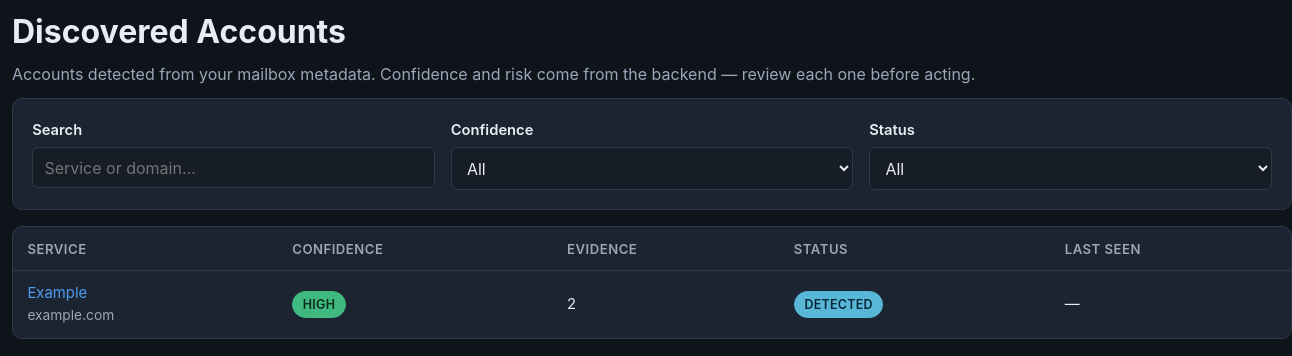
discoveries › renders backend rows with filters
Expected: the link "Example" is shown, [27,284,87,302]
Select "Low" in the dropdown labelled "Confidence" at (652, 169), box [451,147,853,190]
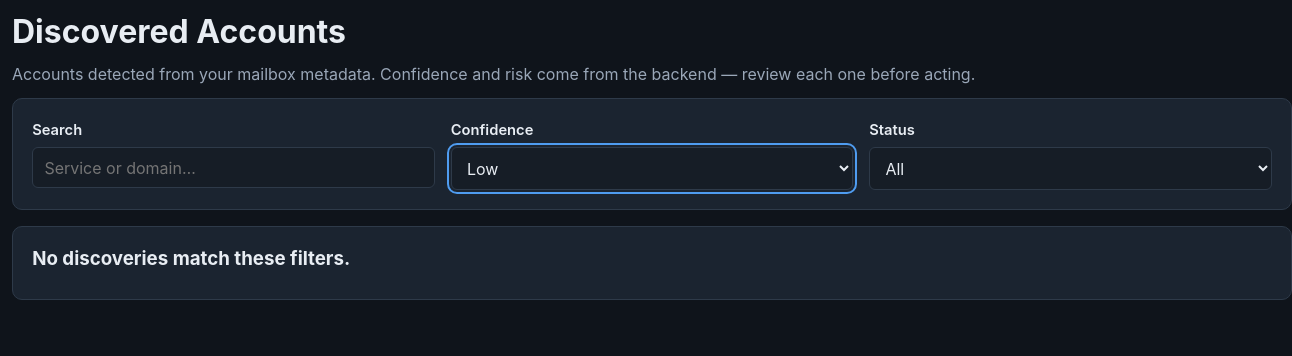
Expected: the heading "No discoveries match these filters." is shown, [32,246,350,270]
